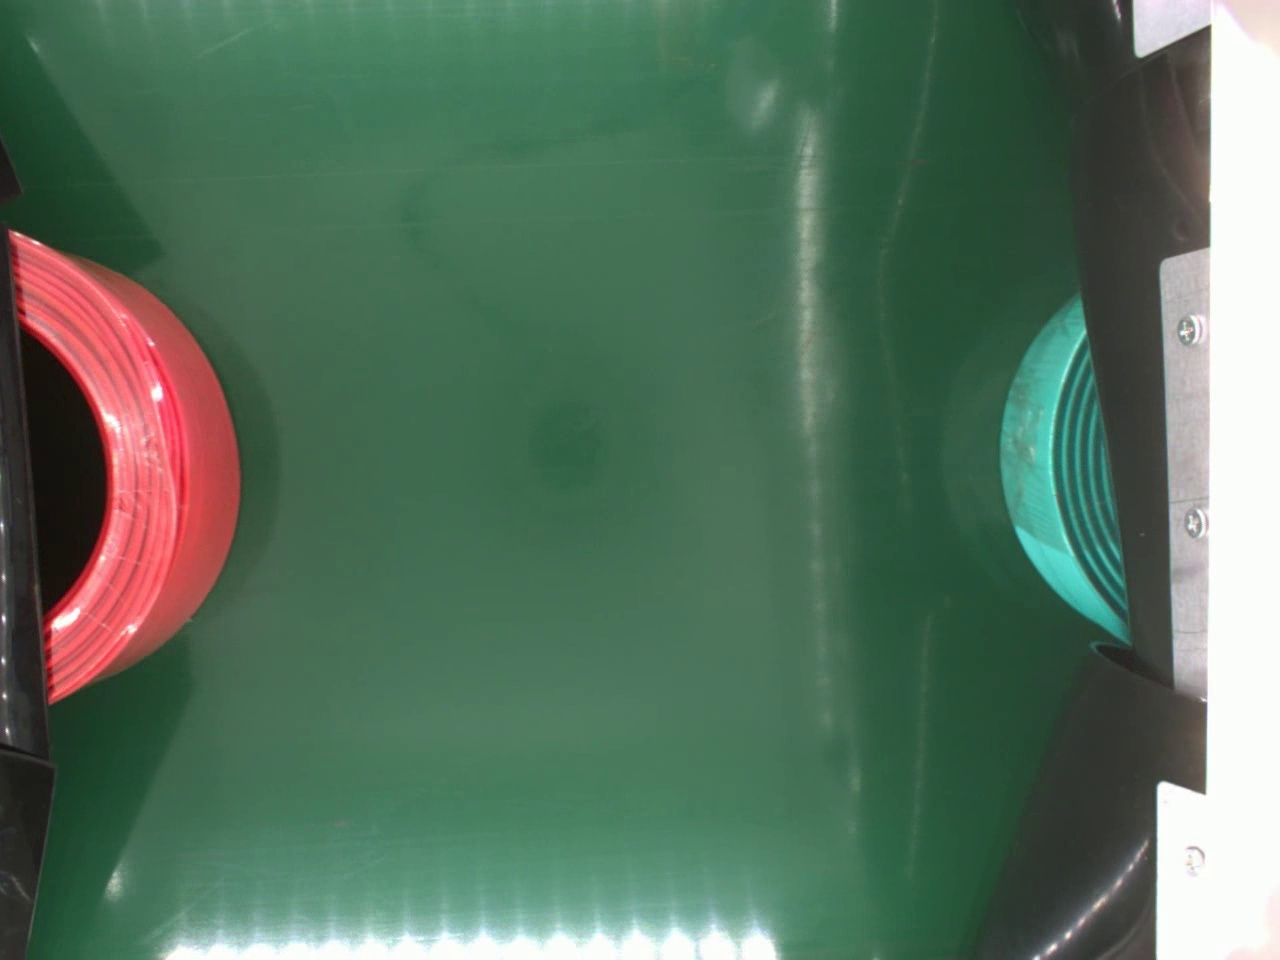green: (1000, 289, 1131, 645)
red: (0, 231, 238, 713)
